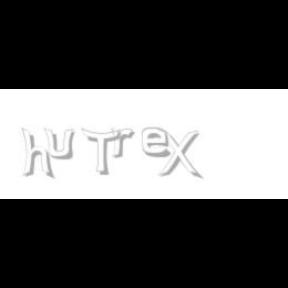T: (81, 128, 121, 176)
X: (156, 128, 200, 180)
e: (142, 128, 174, 158)
h: (21, 128, 56, 180)
r: (110, 128, 138, 158)
u: (44, 128, 78, 160)
